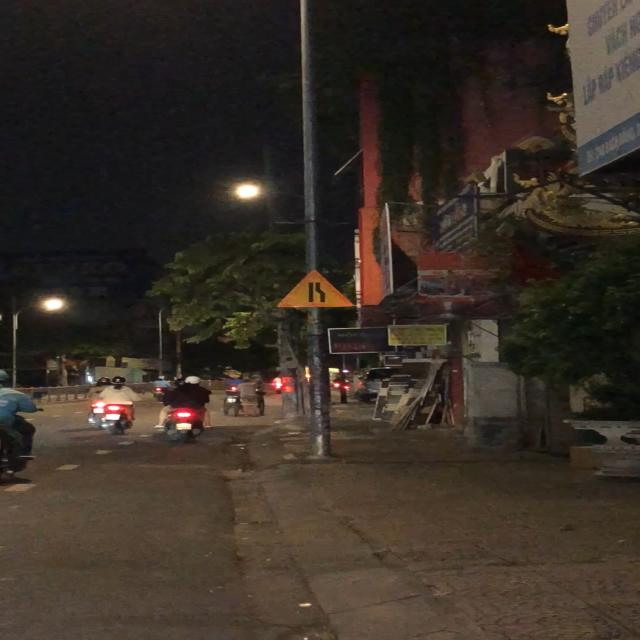Bien bao duong bi thu hep: (273, 268, 355, 310)
